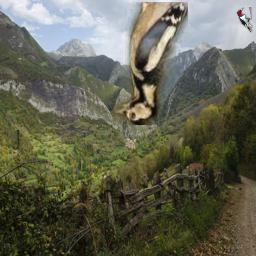Woodpecker: (113, 2, 188, 125), (236, 7, 253, 33)
